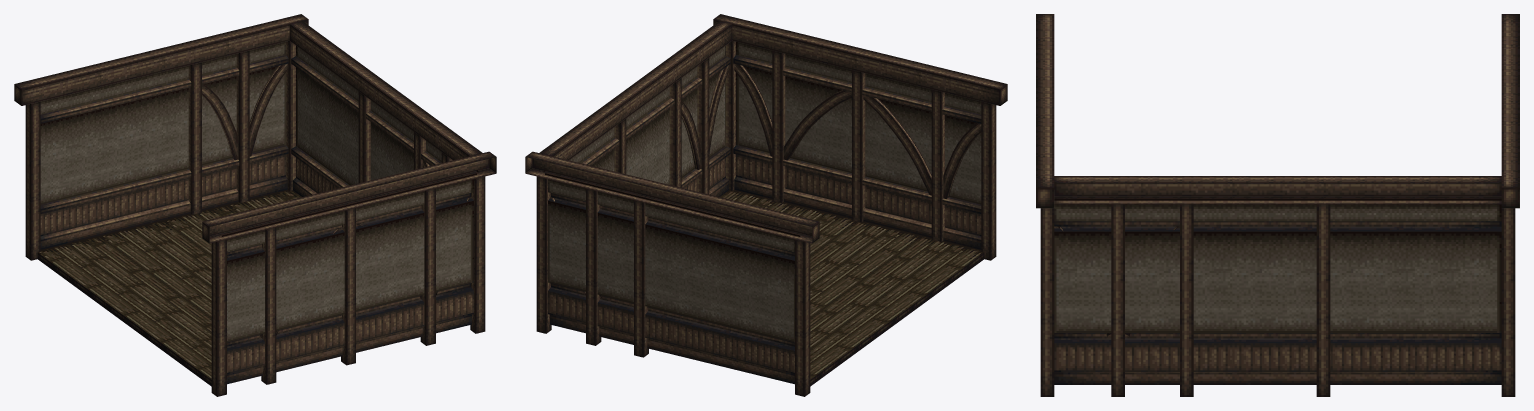
The model's file is EnvBdgMD_Mount_A_Indoor_House_Priest_A.FBX.
The picture shows the model from 3 angles, left to right: view 1: azimuth 30°, elevation 25°; view 2: azimuth 150°, elevation 25°; view 3: azimuth 270°, elevation 25°; orthographic projection. The views are drawn at different scales.
Parts seen in each view (by area): view 1: EnvBdgMD_Mount_A_Indoor_House_Priest_A; view 2: EnvBdgMD_Mount_A_Indoor_House_Priest_A; view 3: EnvBdgMD_Mount_A_Indoor_House_Priest_A.
Part boxes in pixels (x1=…): EnvBdgMD_Mount_A_Indoor_House_Priest_A: x1=14, y1=14, x2=496, y2=396; EnvBdgMD_Mount_A_Indoor_House_Priest_A: x1=525, y1=14, x2=1007, y2=396; EnvBdgMD_Mount_A_Indoor_House_Priest_A: x1=1036, y1=14, x2=1519, y2=396.
Bounding box in the file's own units: 900 × 520 × 1060.
1 material, 1 textured.
